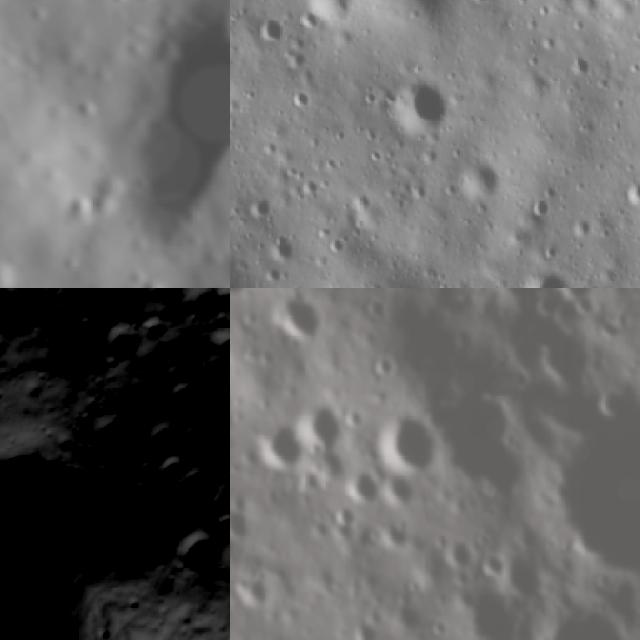crater: (38, 0, 230, 265), (0, 406, 147, 585), (536, 391, 640, 584), (369, 400, 446, 483), (162, 519, 230, 592), (161, 459, 230, 528), (184, 310, 230, 413), (127, 411, 195, 479), (528, 599, 640, 640), (0, 288, 47, 376), (84, 314, 148, 378), (296, 382, 352, 455), (245, 416, 307, 476), (270, 288, 331, 343), (171, 288, 230, 341), (128, 306, 184, 361), (392, 76, 447, 130), (143, 259, 229, 288), (0, 230, 37, 288), (235, 570, 277, 616), (198, 497, 230, 557), (346, 466, 383, 516), (438, 532, 476, 579), (230, 498, 258, 546), (329, 499, 366, 533), (454, 167, 491, 200), (301, 0, 347, 25), (523, 190, 556, 222), (255, 6, 281, 43), (513, 275, 577, 288), (626, 170, 640, 207)
